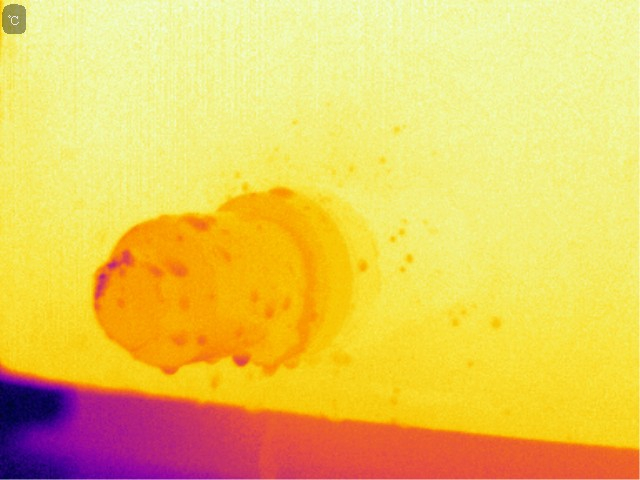Water: (292, 244, 326, 370), (184, 211, 223, 234), (139, 256, 164, 281), (266, 184, 300, 200), (282, 349, 303, 373), (167, 257, 190, 277), (264, 295, 281, 322), (231, 348, 255, 367), (279, 290, 296, 313), (172, 293, 192, 312), (215, 245, 236, 263), (191, 332, 211, 350), (170, 330, 188, 349), (160, 363, 184, 377), (356, 254, 370, 278), (246, 284, 262, 304), (262, 359, 278, 379)
